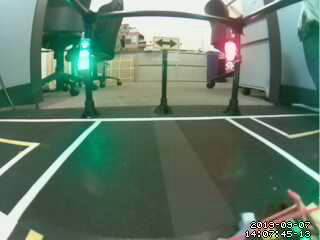Left_Right_sign: (151, 33, 183, 52)
Traffic_light_green: (77, 39, 91, 75)
Traffic_light_red: (220, 39, 240, 76)
